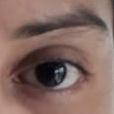open: (1, 42, 106, 109)
